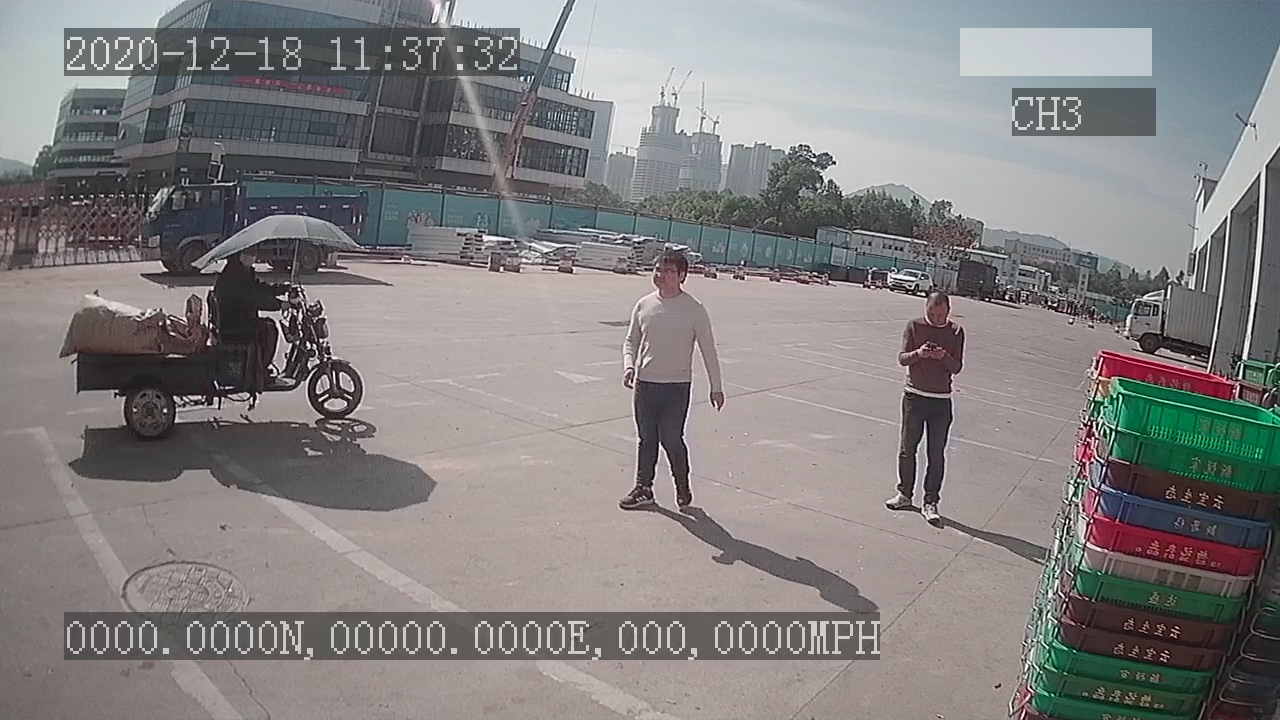person: (608, 245, 729, 507), (884, 287, 968, 534)
